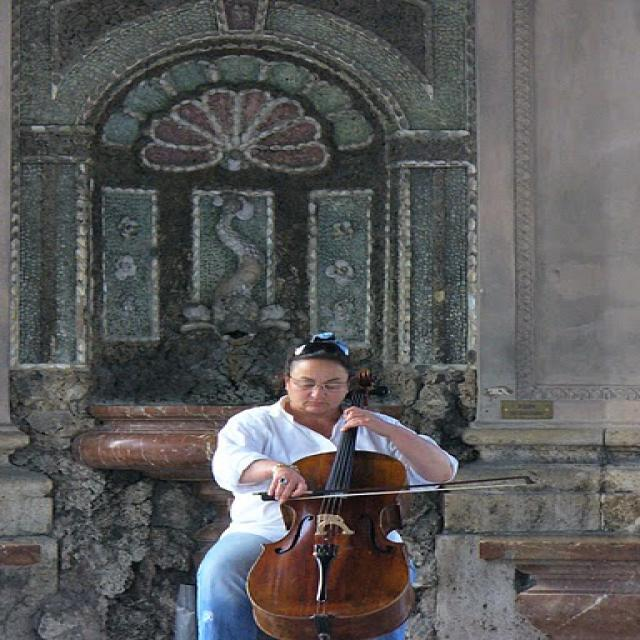cello: (248, 367, 420, 638)
